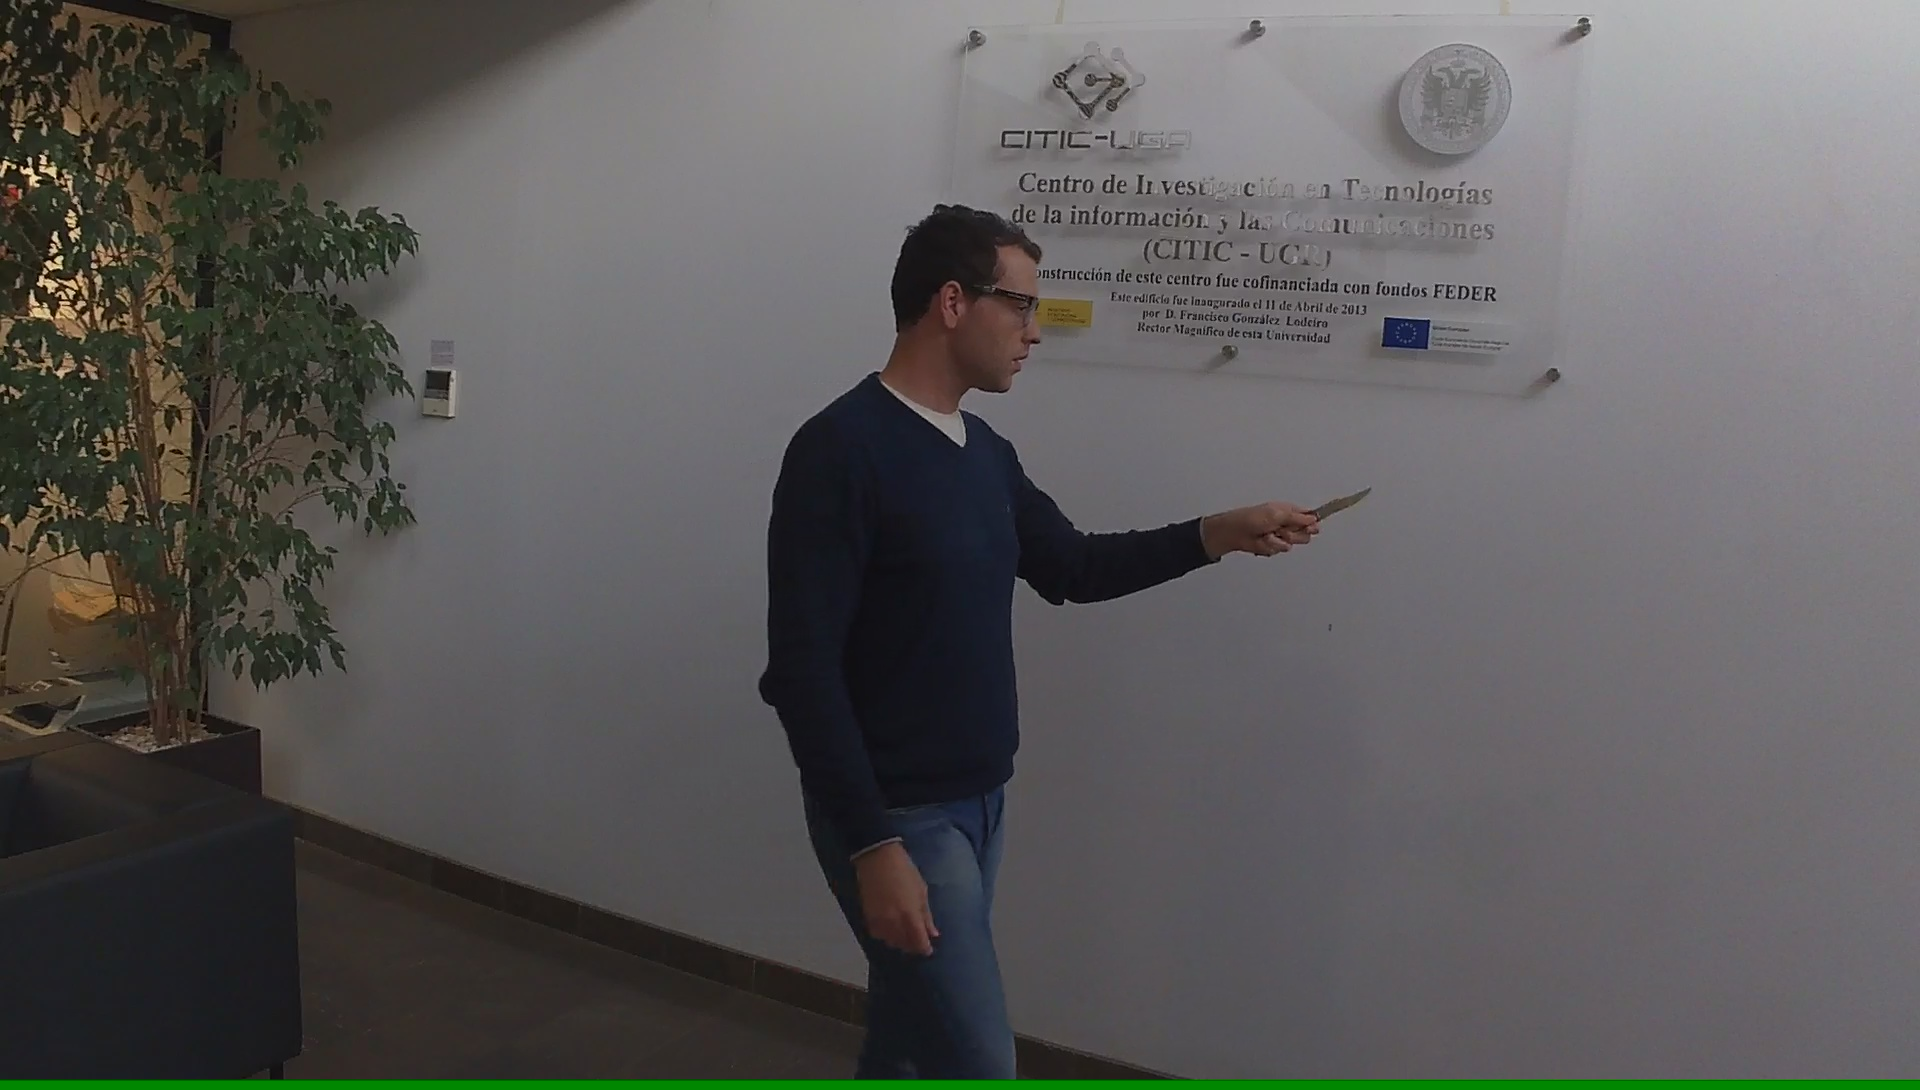knife: (1247, 478, 1381, 561)
